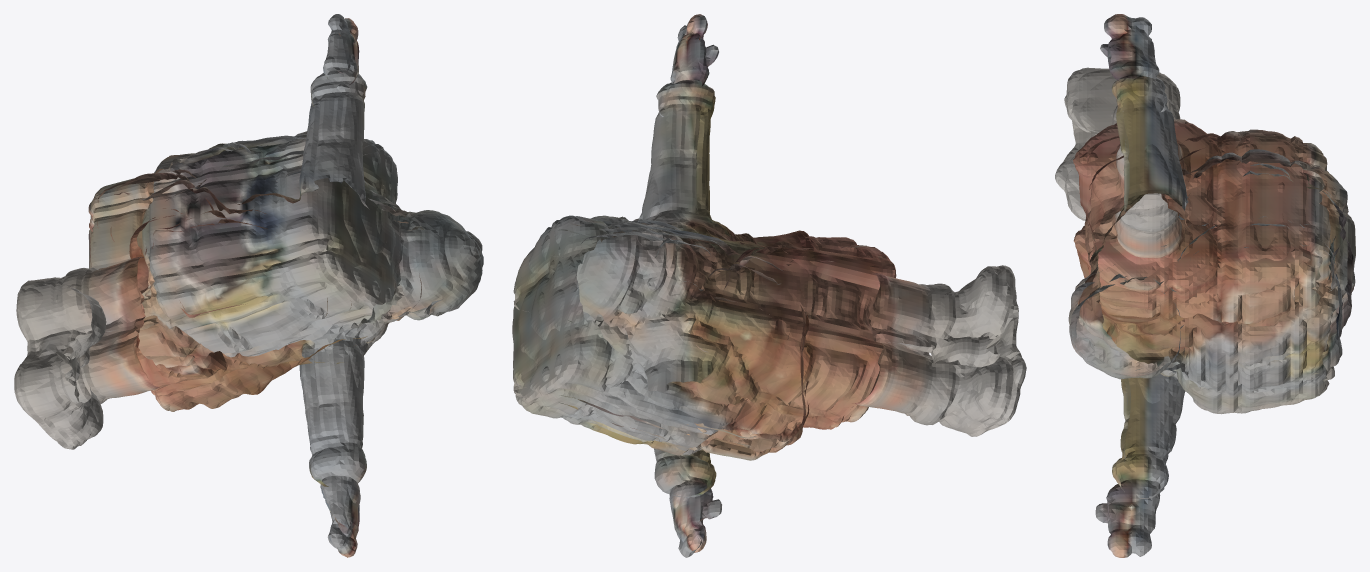
Rendered from hero-tpose-tsr.glb.
The picture shows the model from 3 angles, left to right: view 1: azimuth 30°, elevation 25°; view 2: azimuth 150°, elevation 25°; view 3: azimuth 270°, elevation 25°; orthographic projection.
Parts seen in each view (by area): view 1: geometry_0; view 2: geometry_0; view 3: geometry_0.
Boxes of the visible parts, box(x1,y1,x2,y2) form: geometry_0: box(14, 14, 483, 557); geometry_0: box(512, 14, 1026, 557); geometry_0: box(1055, 14, 1355, 557).
Bounding box in the file's own units: 0.8726 × 1 × 0.5038.
